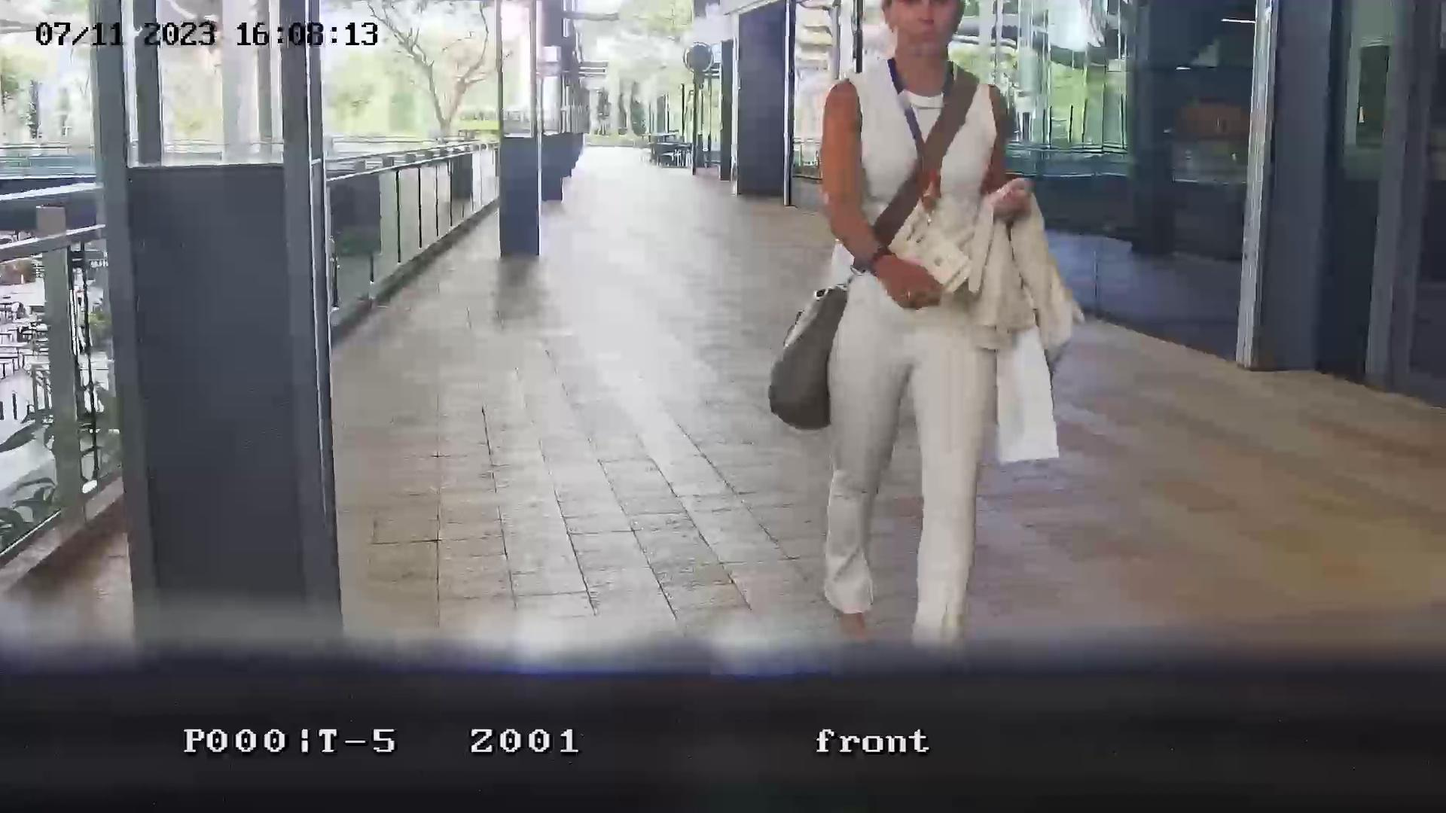person: (815, 0, 1052, 655)
